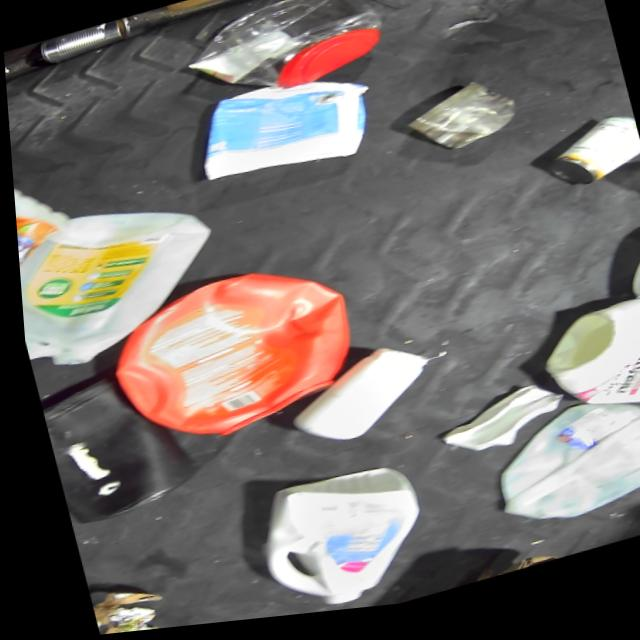can: (535, 122, 640, 208), (35, 19, 134, 68)
milk_jug: (12, 183, 232, 378), (237, 459, 428, 623), (474, 395, 640, 547), (526, 301, 640, 445), (10, 166, 79, 290)
non_white_jug: (91, 252, 364, 465), (30, 356, 197, 531)
